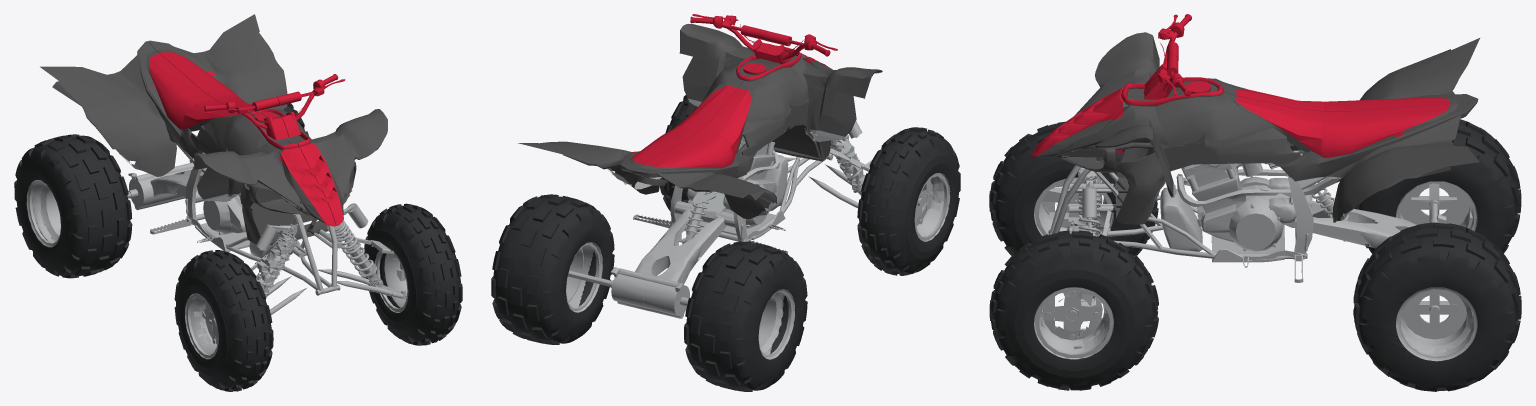
The model's file is quad-raptor.glb.
The picture shows the model from 3 angles, left to right: view 1: azimuth 30°, elevation 25°; view 2: azimuth 150°, elevation 25°; view 3: azimuth 270°, elevation 25°; orthographic projection. The views are drawn at different scales.
Parts seen in each view (by area): view 1: Object_5, Object_6, Object_2, Object_4, Object_3; view 2: Object_5, Object_6, Object_2, Object_4, Object_3; view 3: Object_5, Object_6, Object_2, Object_4, Object_3.
Boxes of the visible parts, bbox=[...] form: Object_5: bbox=[14, 103, 462, 391]; Object_6: bbox=[40, 14, 387, 244]; Object_2: bbox=[26, 143, 408, 359]; Object_4: bbox=[148, 52, 345, 226]; Object_3: bbox=[51, 159, 342, 343]; Object_5: bbox=[491, 95, 960, 391]; Object_6: bbox=[518, 24, 882, 219]; Object_2: bbox=[566, 98, 950, 359]; Object_4: bbox=[631, 14, 837, 167]; Object_3: bbox=[568, 140, 922, 353]; Object_5: bbox=[989, 119, 1521, 391]; Object_6: bbox=[1035, 32, 1479, 224]; Object_2: bbox=[1034, 147, 1477, 361]; Object_4: bbox=[1031, 14, 1450, 157]; Object_3: bbox=[1034, 163, 1449, 351].
Bounding box in the file's own units: 50.54 × 46.93 × 79.85.
